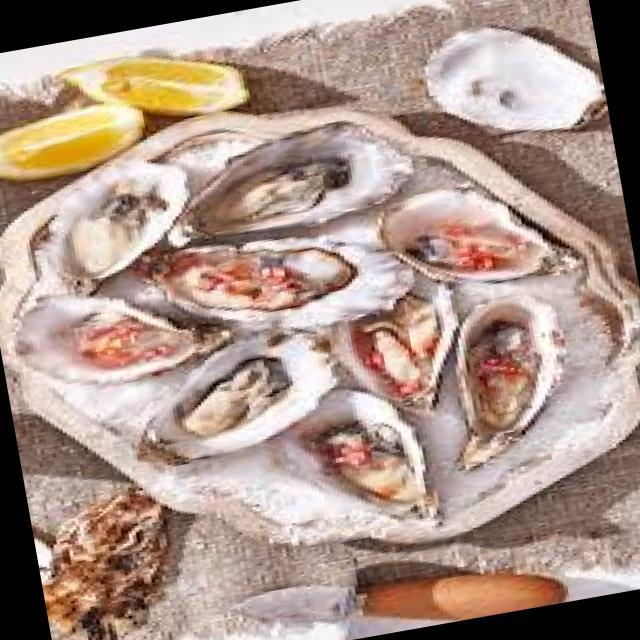Oyster- Indeterminate: (45, 488, 168, 639)
Oyster-Open: (184, 124, 412, 237), (138, 335, 336, 463), (31, 158, 189, 298), (161, 241, 412, 329), (456, 295, 566, 469), (425, 29, 604, 134), (16, 298, 231, 383), (381, 189, 575, 281), (295, 390, 436, 516), (330, 275, 459, 407)
